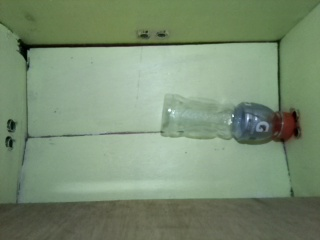bottle: (159, 91, 296, 147)
